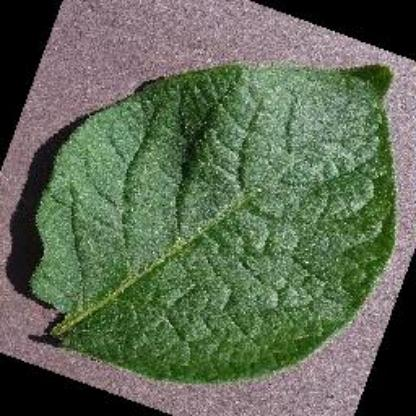Healthy-plant: (17, 34, 403, 382)
